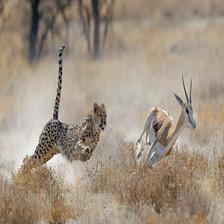Cheetah: (19, 45, 111, 181)
